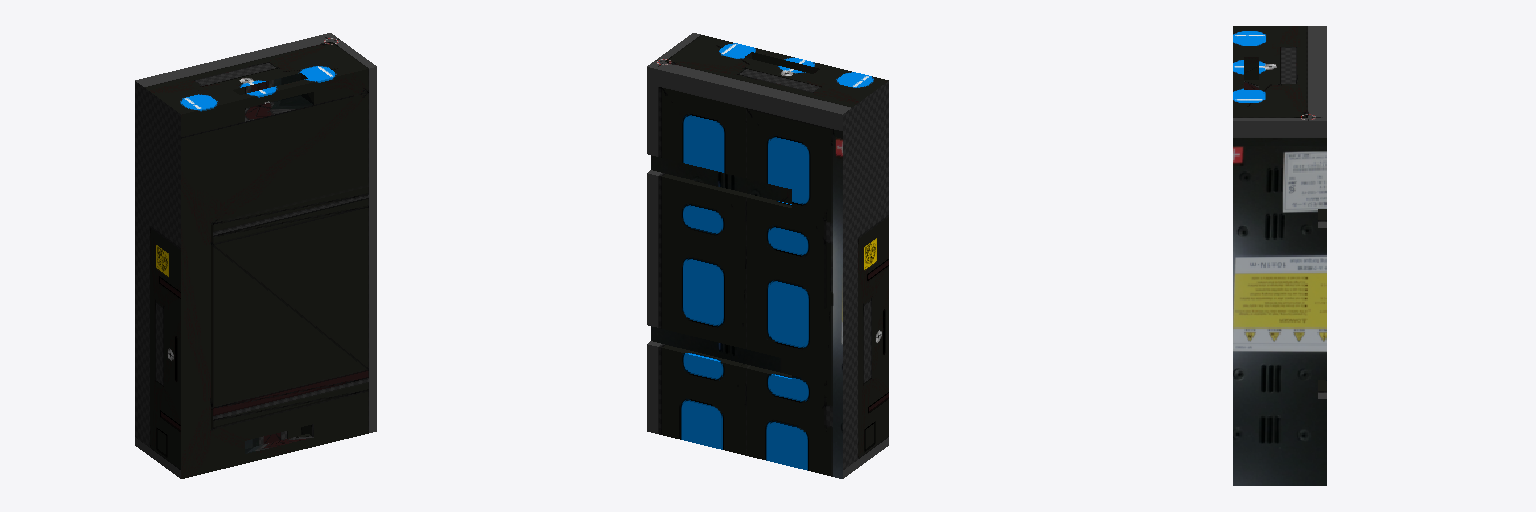
3 renders of one model, left to right at view 1: azimuth 30°, elevation 25°; view 2: azimuth 150°, elevation 25°; view 3: azimuth 270°, elevation 25°, orthographic.
Visible parts, largest first — view 1: battery_s.002; view 2: battery_s.002; view 3: battery_s.002.
Boxes of the visible parts, x1=… form: battery_s.002: x1=135, y1=33, x2=376, y2=478; battery_s.002: x1=647, y1=33, x2=888, y2=478; battery_s.002: x1=1233, y1=26, x2=1326, y2=485.
Bounding box in the file's own units: 0.54 × 0.96 × 0.222.
Materials: 1 (1 with a texture image).